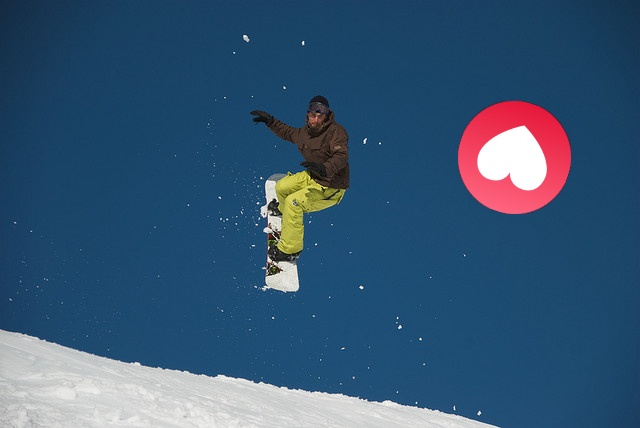love: (458, 101, 571, 214)
